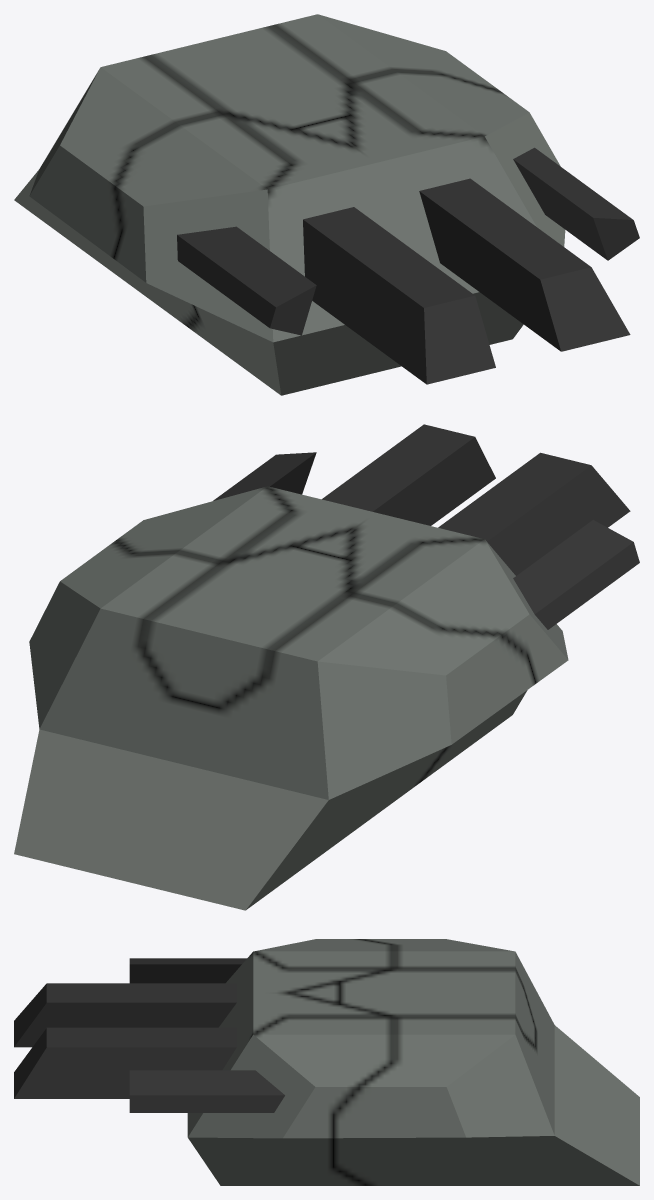
Rendered from Boss_Turret_F_2.fbx.
3 views of the same model, one above another, from view 1: azimuth 30°, elevation 25°; view 2: azimuth 150°, elevation 25°; view 3: azimuth 270°, elevation 25° (orthographic). The views are drawn at different scales.
Visible parts, largest first — view 1: Boss_Turret2; view 2: Boss_Turret2; view 3: Boss_Turret2.
Part boxes in pixels (x1,y1,x2,y2): Boss_Turret2: [14, 14, 639, 395]; Boss_Turret2: [14, 424, 639, 910]; Boss_Turret2: [14, 939, 639, 1185].
Bounding box in the file's own units: 584 × 250 × 955.
Materials: 1 (1 with a texture image).
